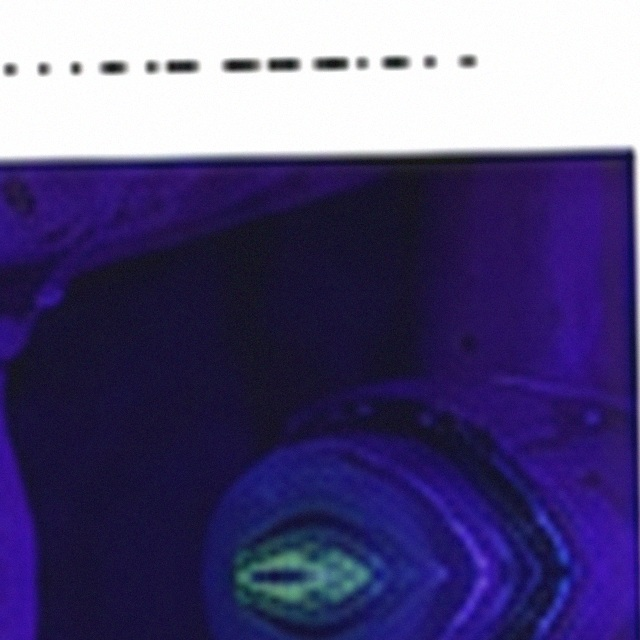hydraulic_oil_leak: (236, 545, 367, 600), (238, 553, 250, 562)
